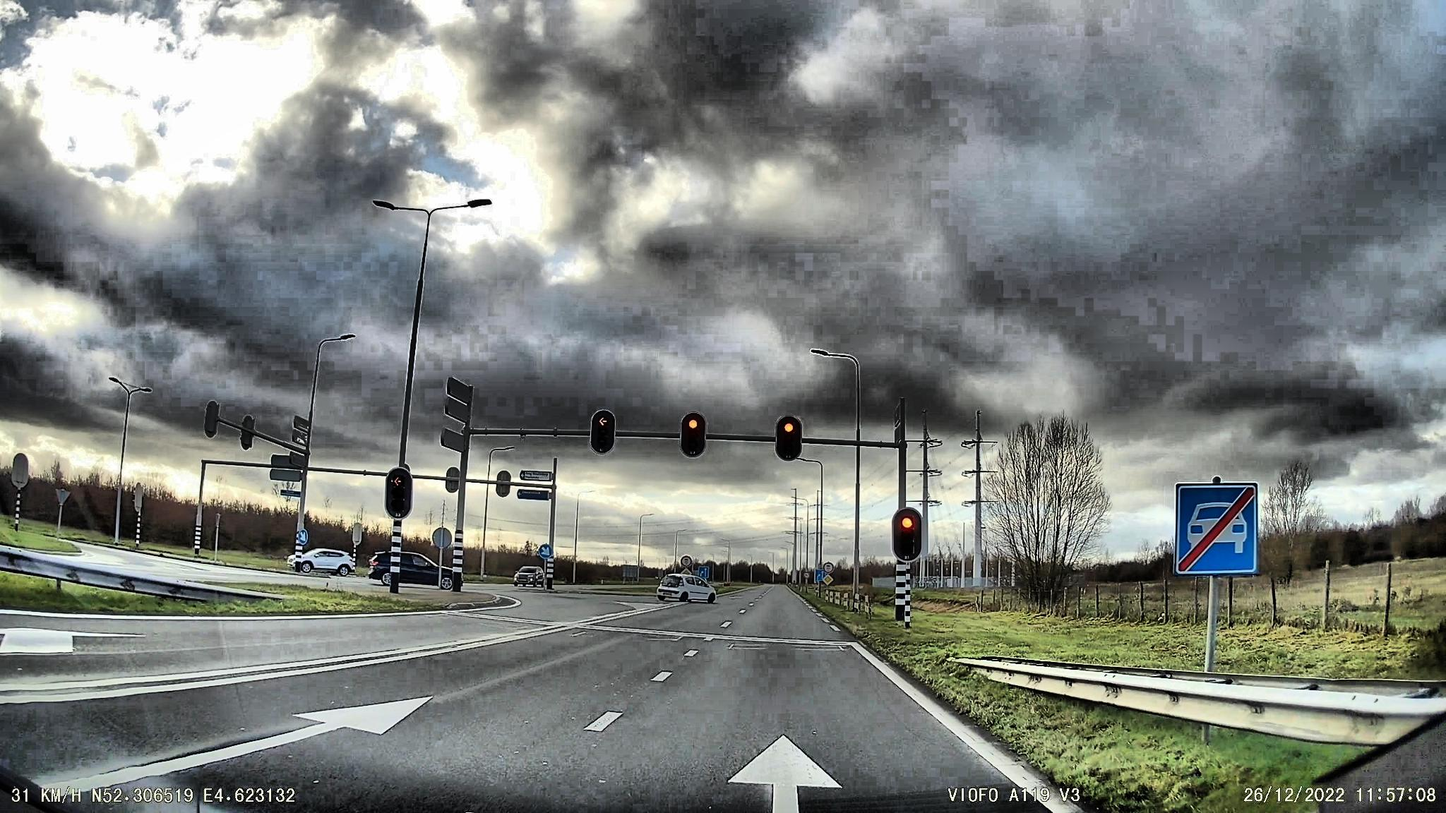Roads: (0, 582, 1092, 813)
